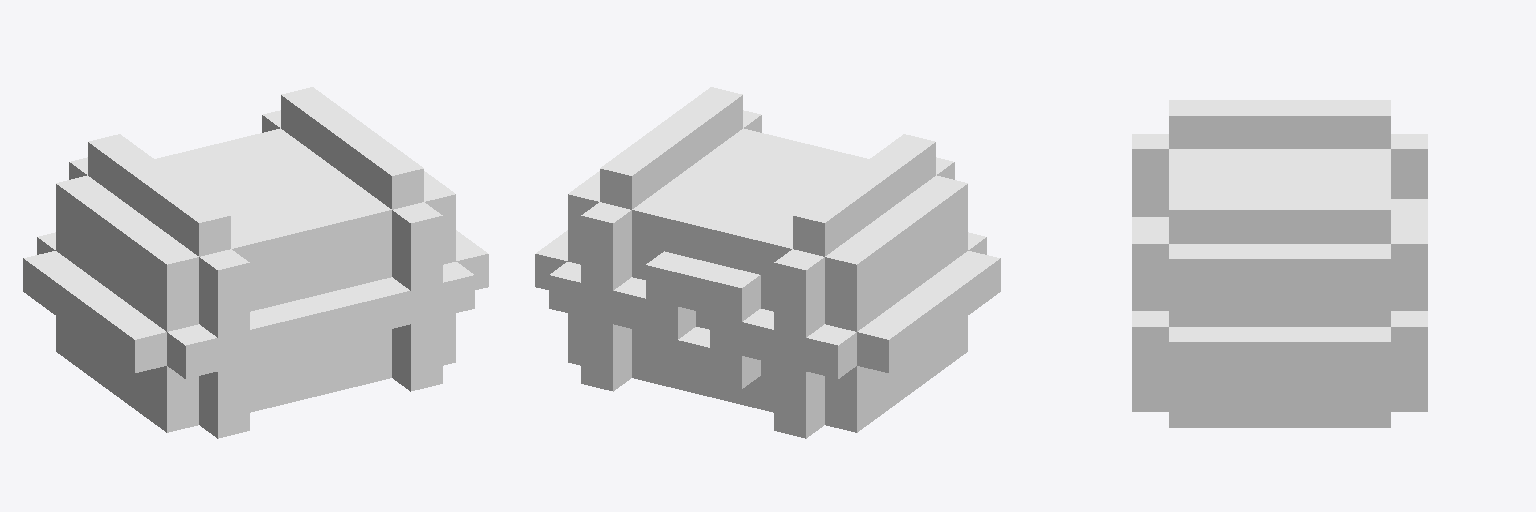
Rendered from Chest_Closed.obj.
3 renders of one model, left to right at view 1: azimuth 30°, elevation 25°; view 2: azimuth 150°, elevation 25°; view 3: azimuth 270°, elevation 25°, orthographic.
Bounding box in the file's own units: 11 × 6 × 8.